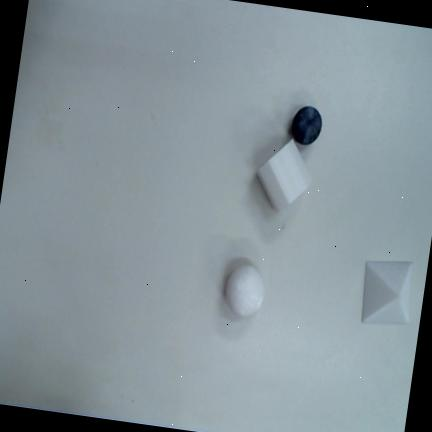Esfera: (224, 264, 264, 316), (291, 105, 322, 144)
Piramide: (361, 260, 412, 324)
Prisma_hexagonal: (254, 137, 310, 214)
